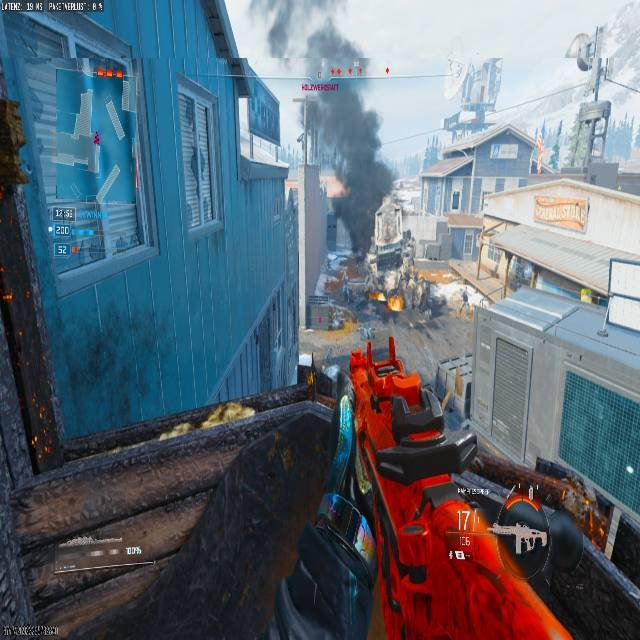player: (401, 230, 415, 271), (458, 284, 471, 317)
